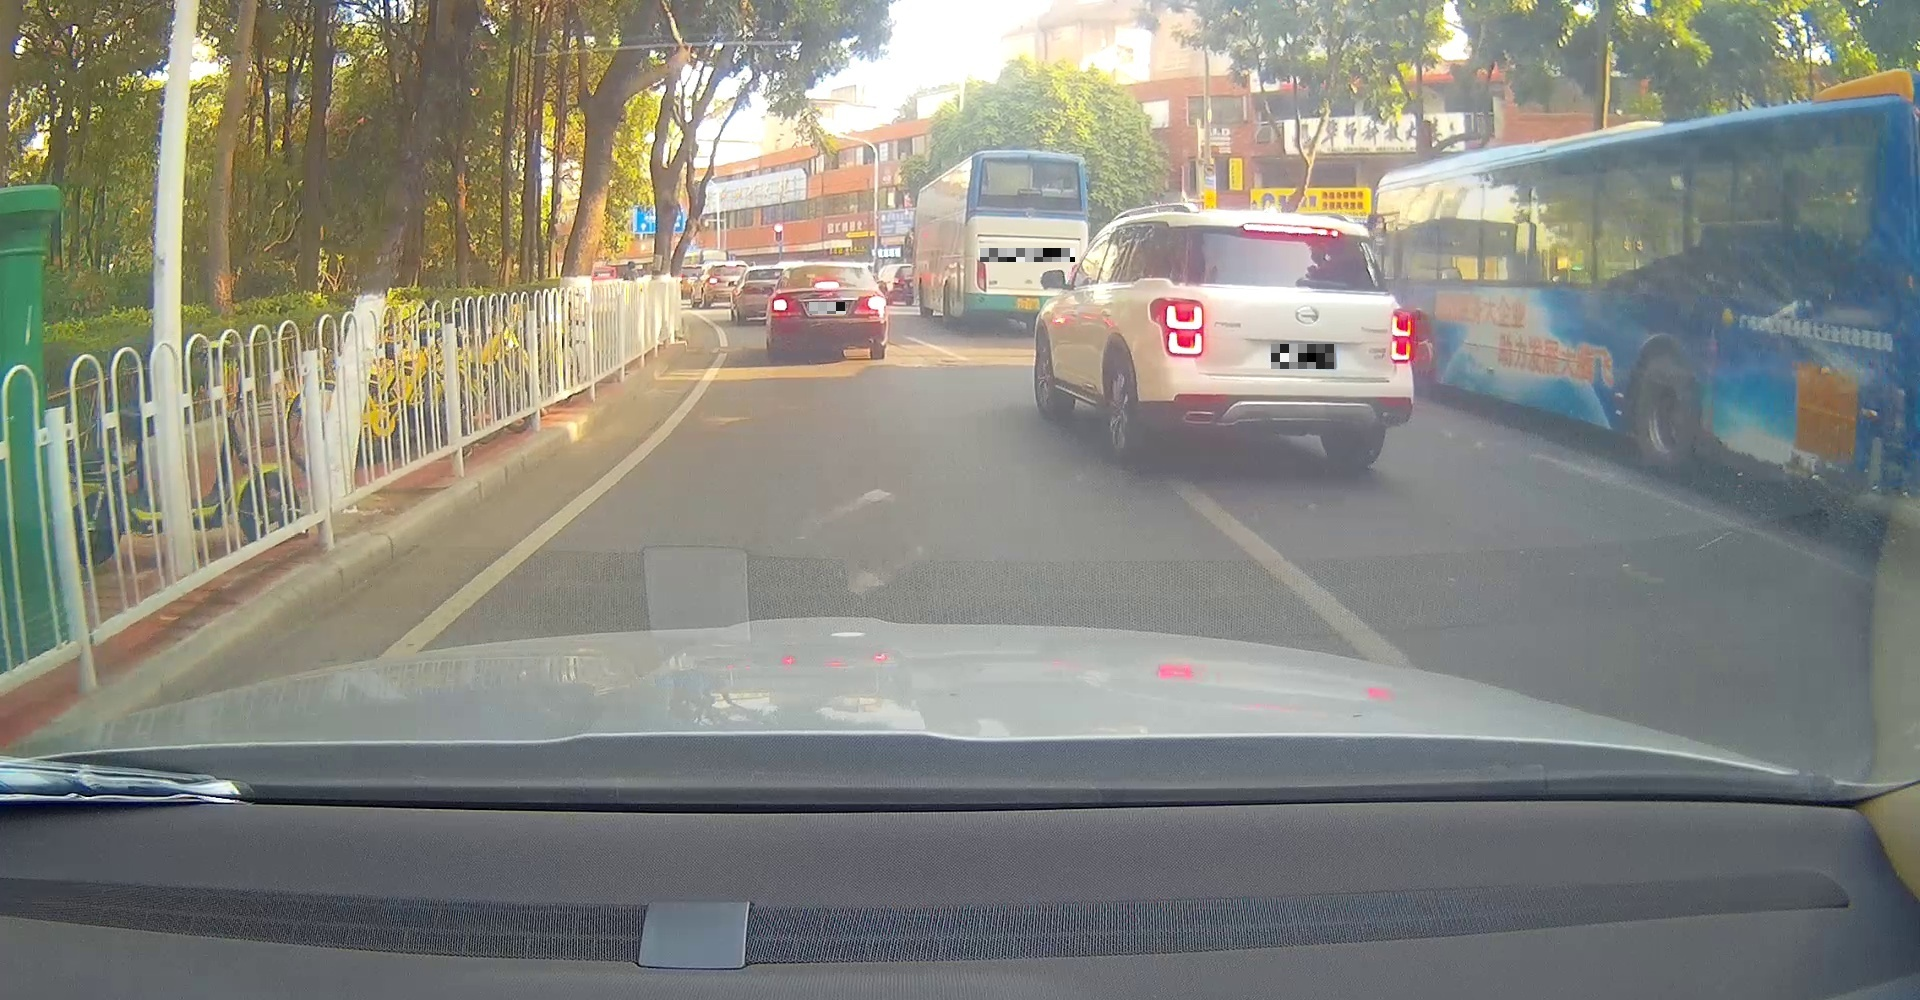L_light: (1147, 294, 1203, 358), (770, 294, 800, 313)
R_light: (1390, 307, 1412, 362), (855, 294, 886, 319)
T_light: (1241, 221, 1340, 240), (813, 280, 841, 289)
day-brake: (1140, 209, 1416, 471), (767, 261, 886, 359)
plate_1: (809, 302, 846, 313)
plate_2: (980, 247, 1076, 261)
plate_3: (1271, 344, 1336, 369)
